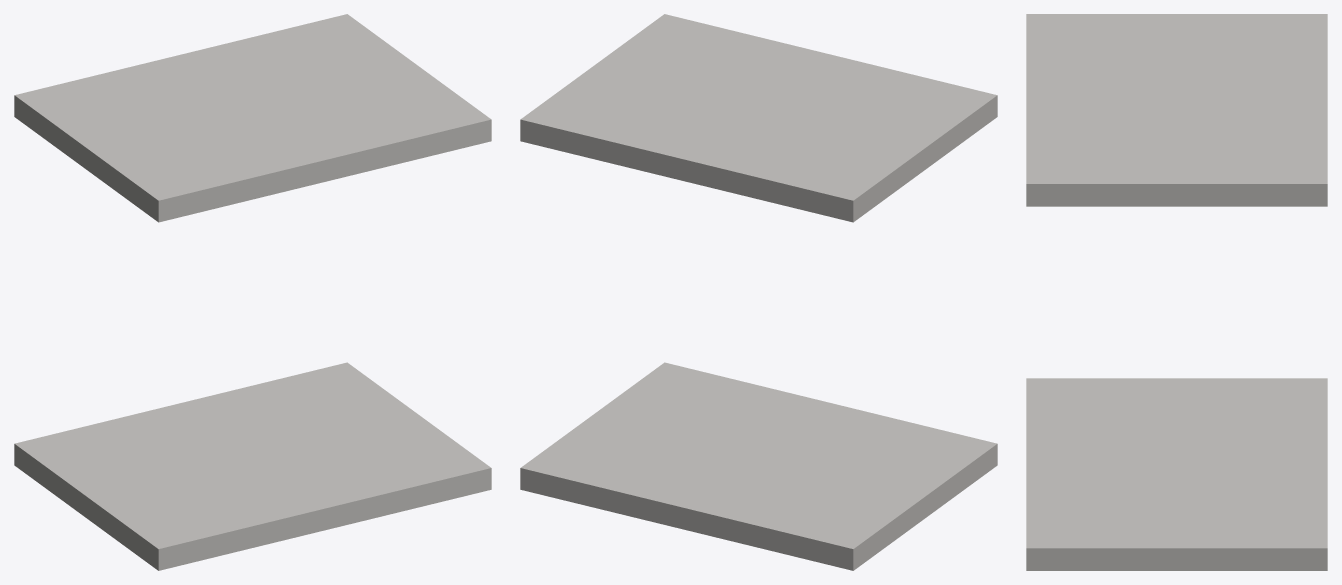
Rendered from floor(cell).fbx.
3 renders of one model, left to right at view 1: azimuth 30°, elevation 25°; view 2: azimuth 150°, elevation 25°; view 3: azimuth 270°, elevation 25°, orthographic. The views are drawn at different scales.
Parts seen in each view (by area): view 1: pCube4, pCube5; view 2: pCube4, pCube5; view 3: pCube4, pCube5.
Boxes of the visible parts, left/top/right/bottom form: pCube4: left=14, top=362, right=491, bottom=570; pCube5: left=14, top=14, right=491, bottom=222; pCube4: left=520, top=362, right=997, bottom=570; pCube5: left=520, top=14, right=997, bottom=222; pCube4: left=1026, top=378, right=1327, bottom=570; pCube5: left=1026, top=14, right=1327, bottom=206.
Bounding box in the file's own units: 320 × 340 × 240.
1 material, 1 textured.
